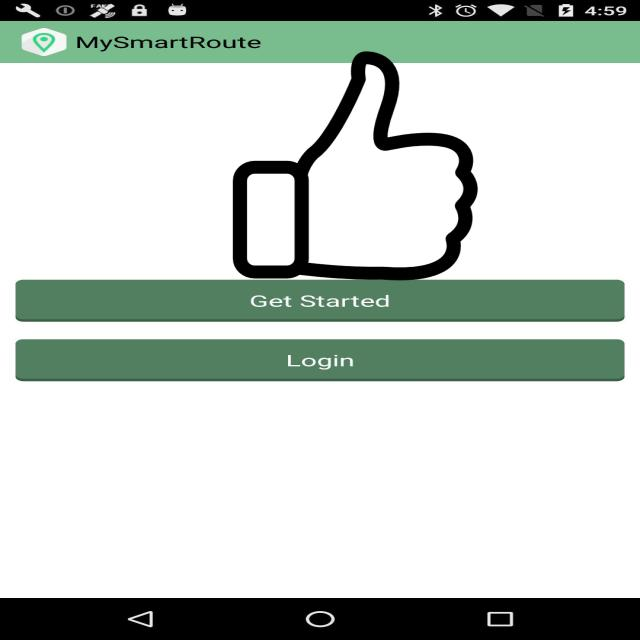privacy zuckering: (229, 52, 482, 280)
